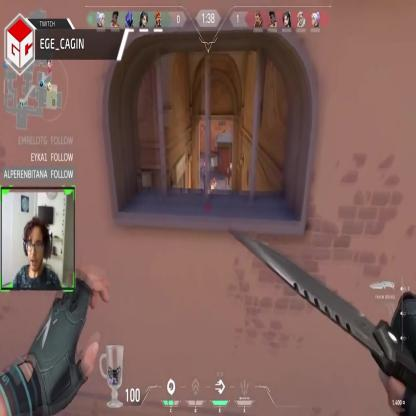enemy: (228, 161, 233, 186), (211, 176, 216, 200), (202, 161, 206, 186)
enemy_head: (204, 161, 206, 165), (213, 178, 215, 182), (230, 162, 232, 166)
